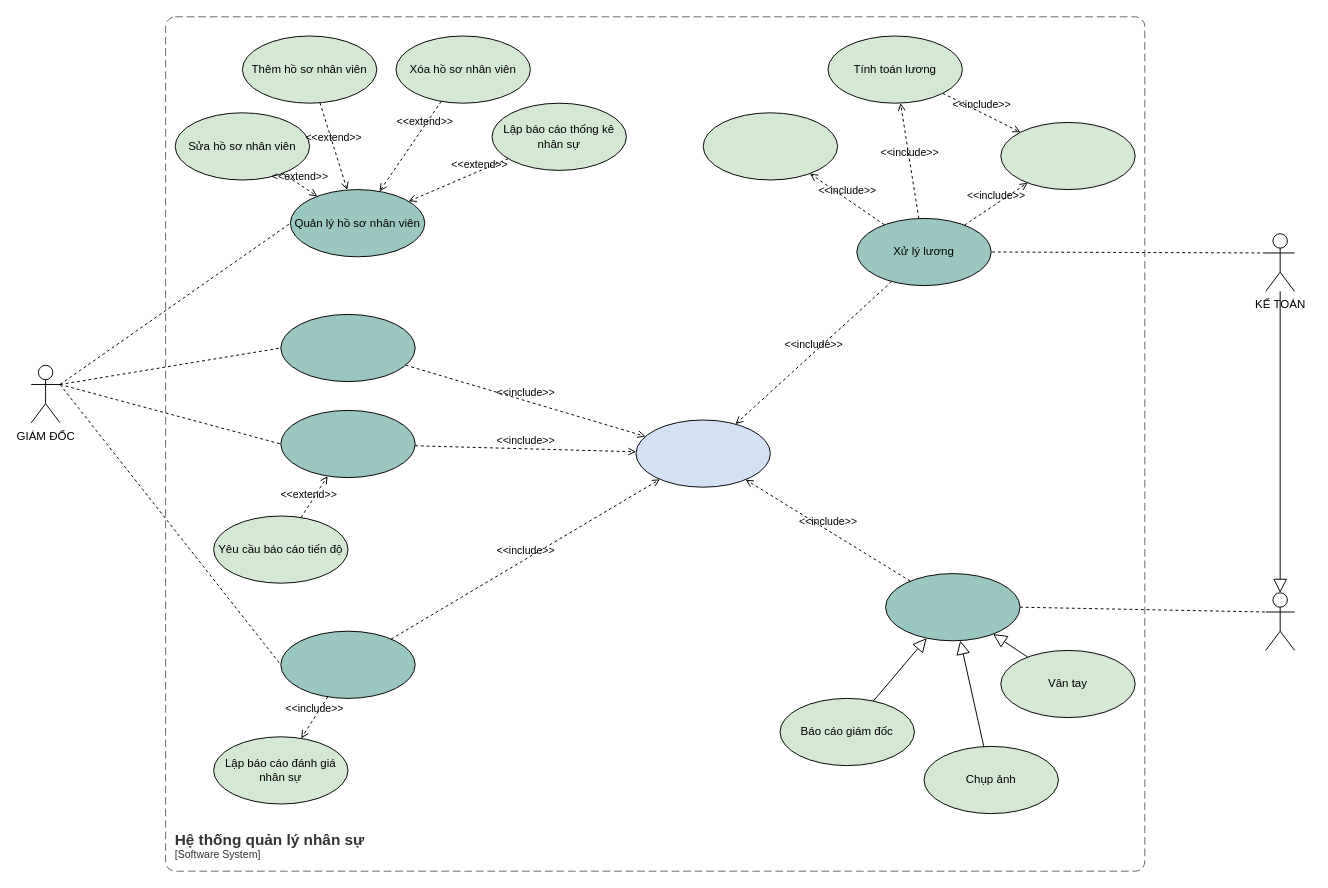
Some shapes in this 1328 by 888 pixel diagram are drawn without their labels. Here are the shapes that lost their labels. From the top down, the centre of each, then its label:
At point 770,146: "Lập báo cáo lương".
At point 1067,155: "Lập bảng công".
At point 347,347: "Xử lý hồ sơ xin việc".
At point 347,443: "Bàn giao công việc".
At point 702,453: "Đăng nhập".
At point 952,607: "Chấm công".
At point 1280,621: "NHÂN VIÊN".
At point 347,664: "Đánh giá nhân viên".
